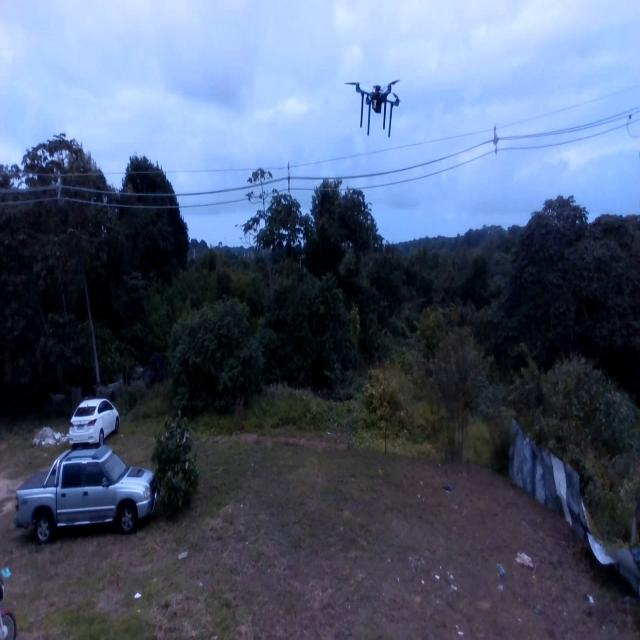-uav-: (335, 58, 410, 150)
